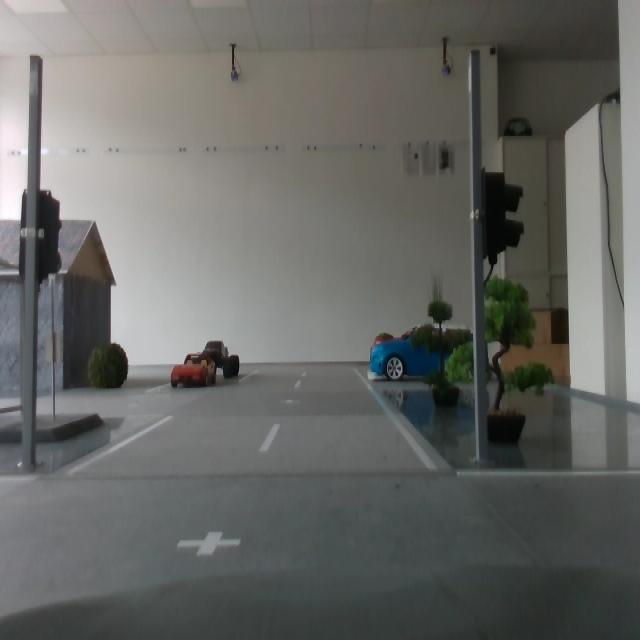car: (369, 324, 474, 381), (170, 351, 219, 394), (201, 339, 243, 382)
potted plant: (443, 276, 557, 446), (410, 299, 473, 413), (84, 339, 131, 395), (426, 275, 447, 372), (373, 332, 399, 369)
traffic light: (481, 168, 525, 265), (19, 188, 63, 284)
